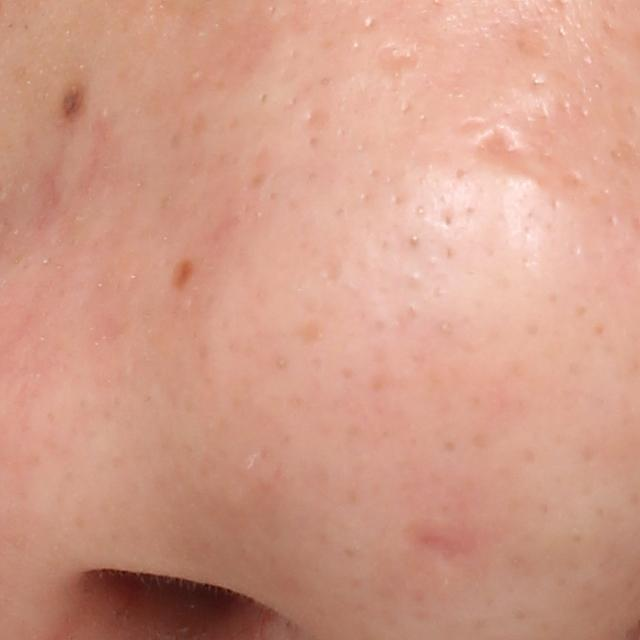atrophic_scar: (398, 515, 481, 570), (491, 11, 558, 62), (465, 124, 529, 174), (375, 40, 424, 77), (297, 104, 330, 134)
nevus: (58, 78, 91, 123), (172, 255, 195, 291)
